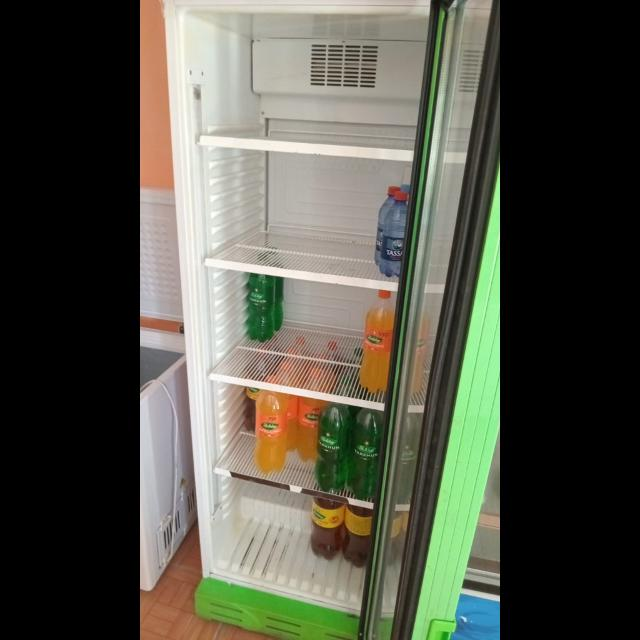Cooling-Display: (164, 1, 456, 640)
